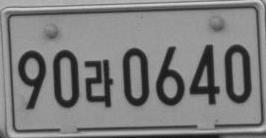0: (224, 43, 252, 104), (51, 48, 79, 108), (121, 47, 149, 107)
4: (189, 43, 220, 105)
6: (155, 45, 185, 106)
9: (17, 49, 46, 109)
라: (83, 58, 113, 107)
